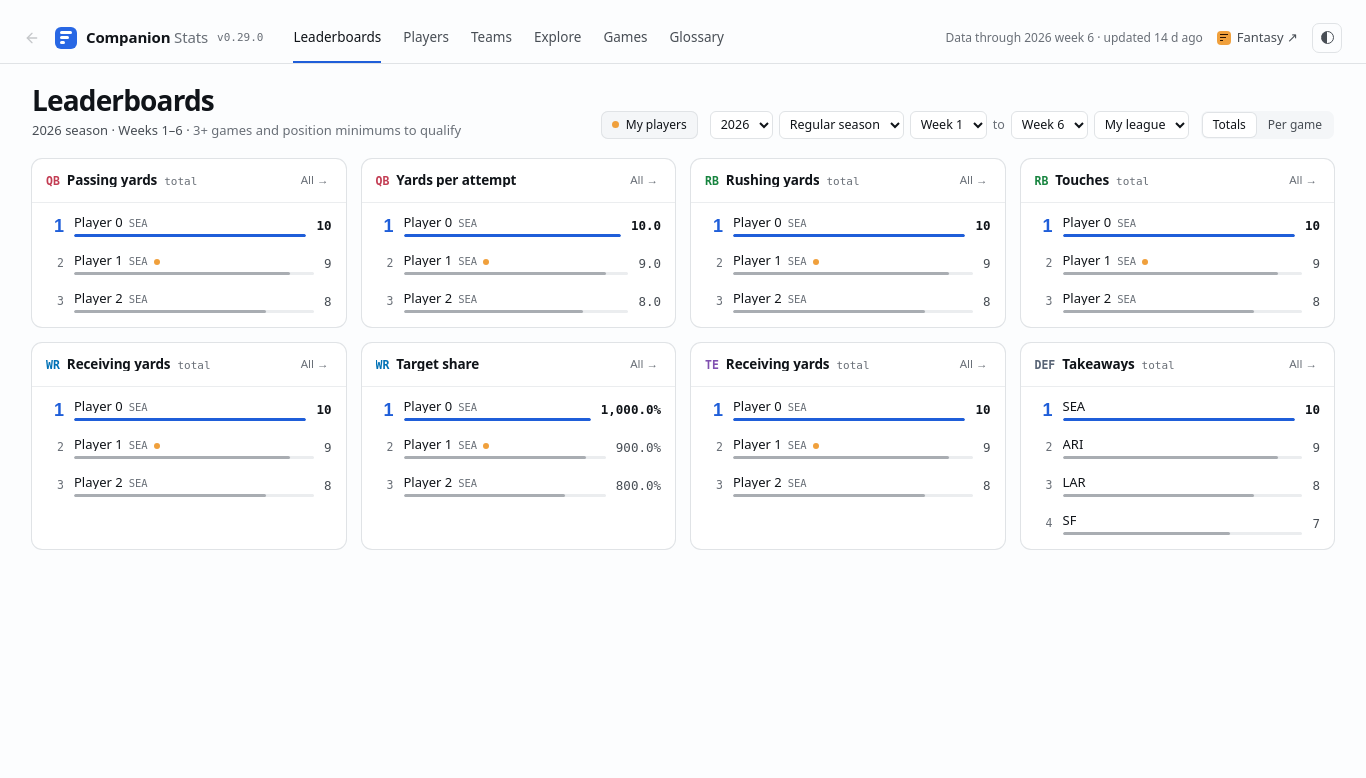
Scenario: the team dashboard (spec §9.3) › shows a failed table’s error instead of nothing
Click the button "Teams" at point(491, 38), box [471,12,512,63]
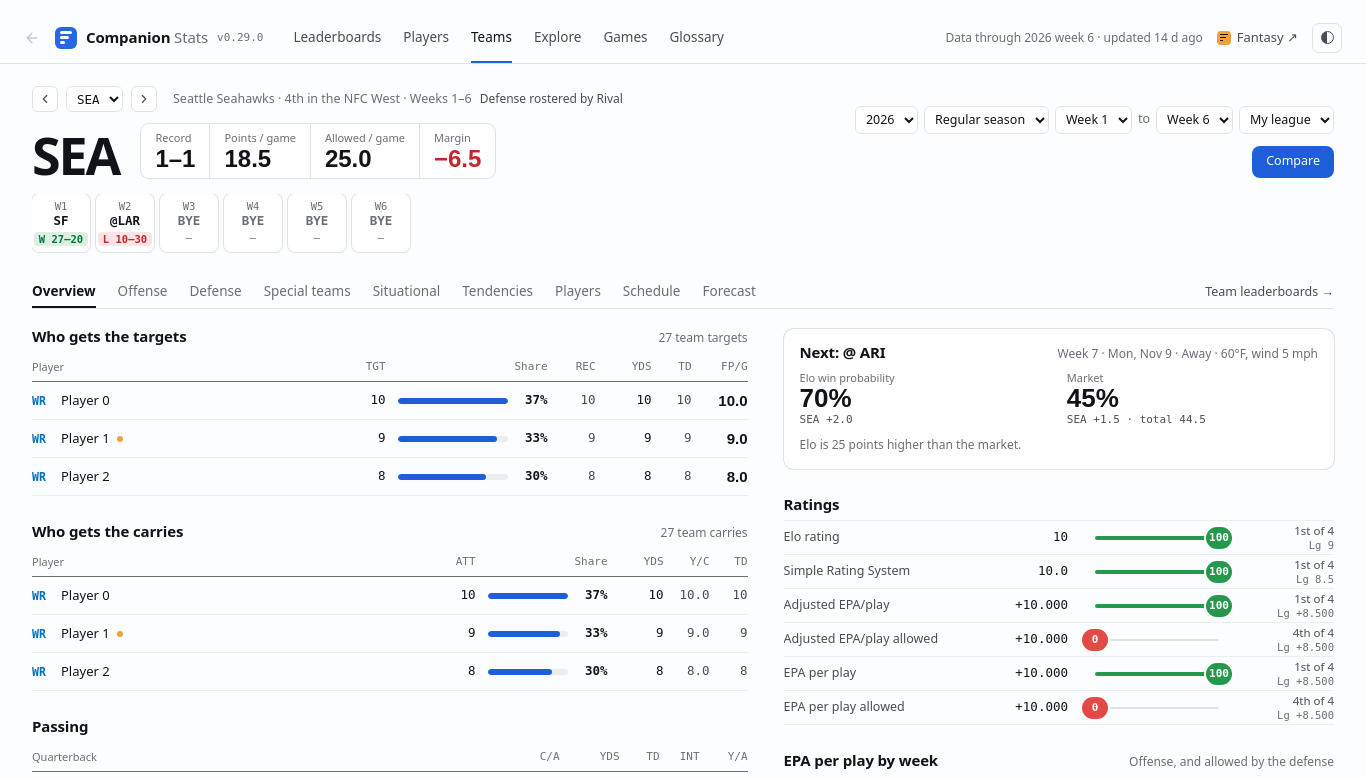
Expected: the heading "SEA" is shown, [32,133,119,178]
Expected: the number of list items is 6, [32,194,90,252]; [96,194,154,252]; [160,194,218,252]; [224,194,282,252]; [288,194,346,252]; [352,194,410,252]
Click the tab "Special teams" at point(307, 292), box [264,276,351,308]
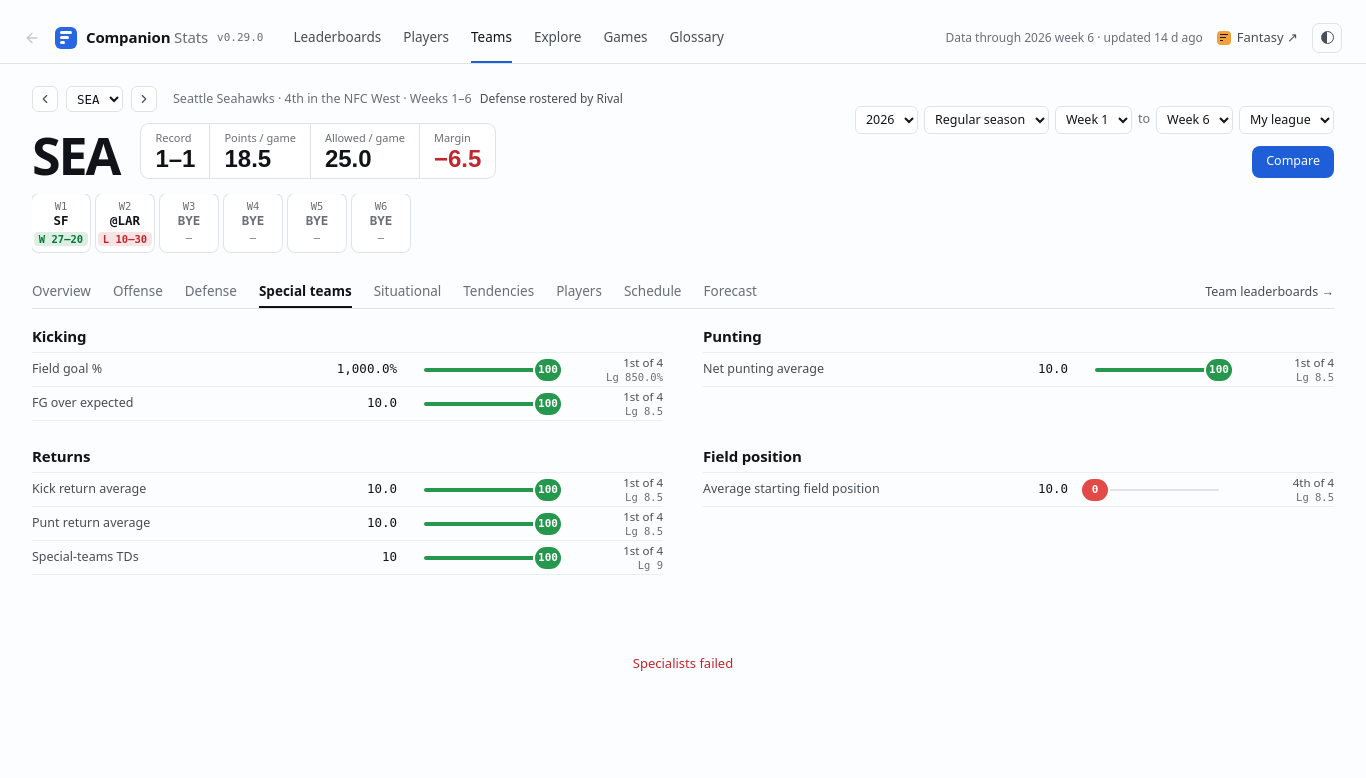
Expected: the text "Specialists failed" is shown, [633,654,733,672]
Click the tab "Tendencies" at point(499, 292), box [463,276,534,308]
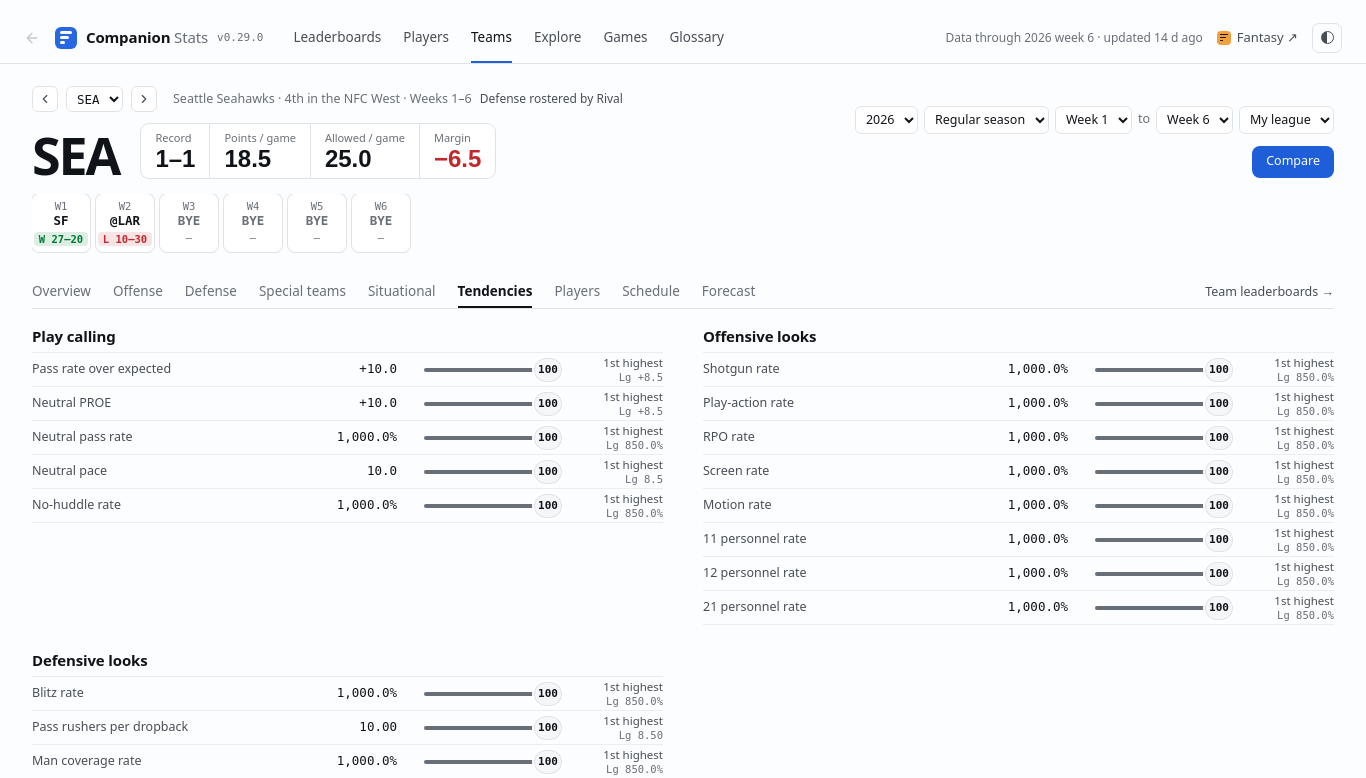
Click the tab "Schedule" at point(651, 292), box [622,276,680,308]
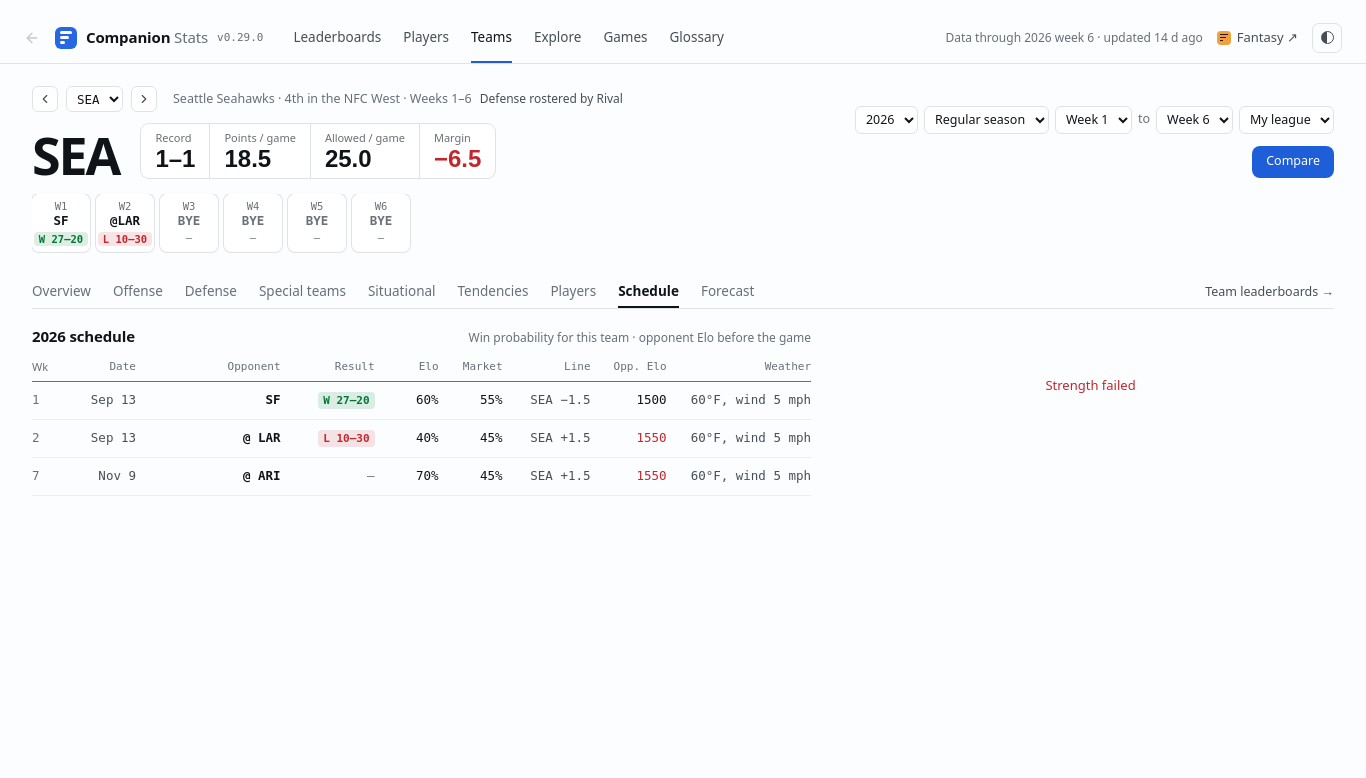
Expected: the text "Strength failed" is shown, [1045,376,1136,394]
